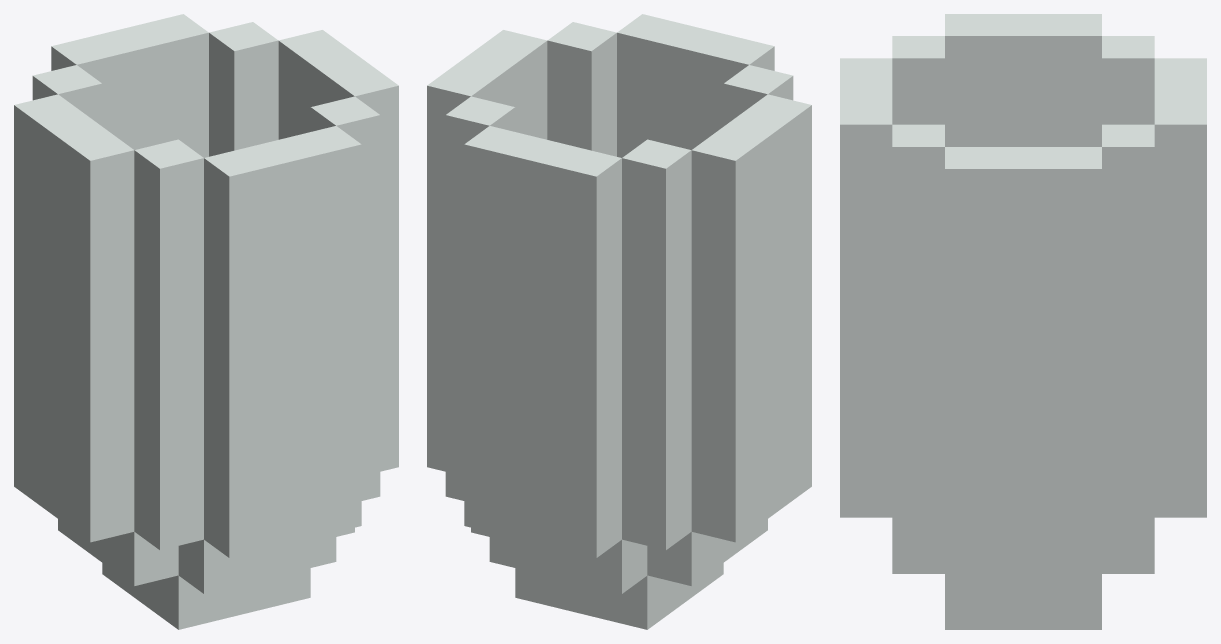
File: verre.fbx
The picture shows the model from 3 angles, left to right: view 1: azimuth 30°, elevation 25°; view 2: azimuth 150°, elevation 25°; view 3: azimuth 270°, elevation 25°; orthographic projection. The views are drawn at different scales.
Visible parts, largest first — view 1: Verre; view 2: Verre; view 3: Verre.
Part boxes in pixels (left/top/right/bottom): Verre: left=14, top=14, right=398, bottom=629; Verre: left=427, top=14, right=811, bottom=629; Verre: left=840, top=14, right=1206, bottom=629.
Size of the model in its own units: 7.9 by 12 by 7.9.
1 material, 1 textured.
